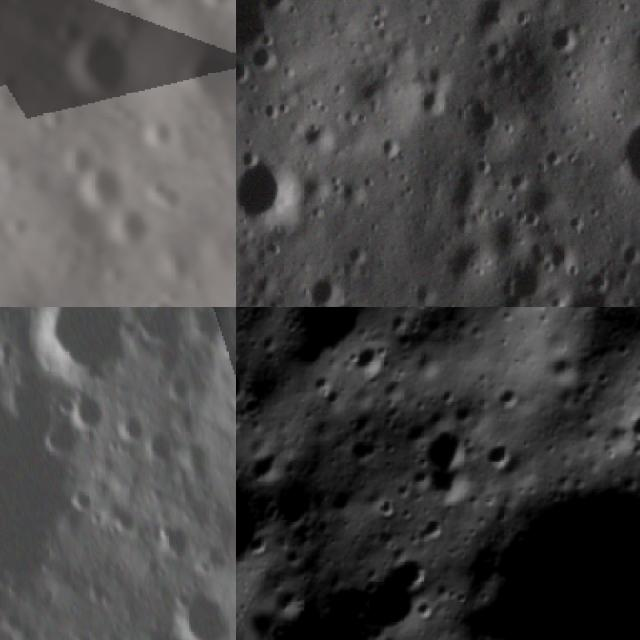crater: (428, 409, 640, 640), (236, 307, 396, 403), (43, 307, 154, 390), (236, 440, 292, 588), (53, 30, 138, 110), (236, 151, 306, 236), (378, 536, 453, 608), (165, 33, 236, 104), (416, 410, 482, 479), (530, 338, 596, 402), (174, 579, 236, 640), (72, 163, 130, 216), (538, 233, 593, 287), (103, 204, 157, 258), (491, 257, 546, 307), (476, 428, 527, 480), (484, 370, 533, 422), (616, 104, 640, 210), (458, 101, 508, 147), (300, 268, 354, 307), (546, 13, 588, 61), (411, 82, 455, 125), (555, 284, 635, 307), (50, 16, 92, 57), (58, 140, 99, 182), (140, 614, 201, 640), (614, 18, 640, 78), (248, 32, 283, 74), (617, 399, 640, 459), (36, 104, 72, 138), (236, 53, 258, 88), (199, 0, 236, 18), (203, 172, 230, 194), (138, 295, 181, 307)
